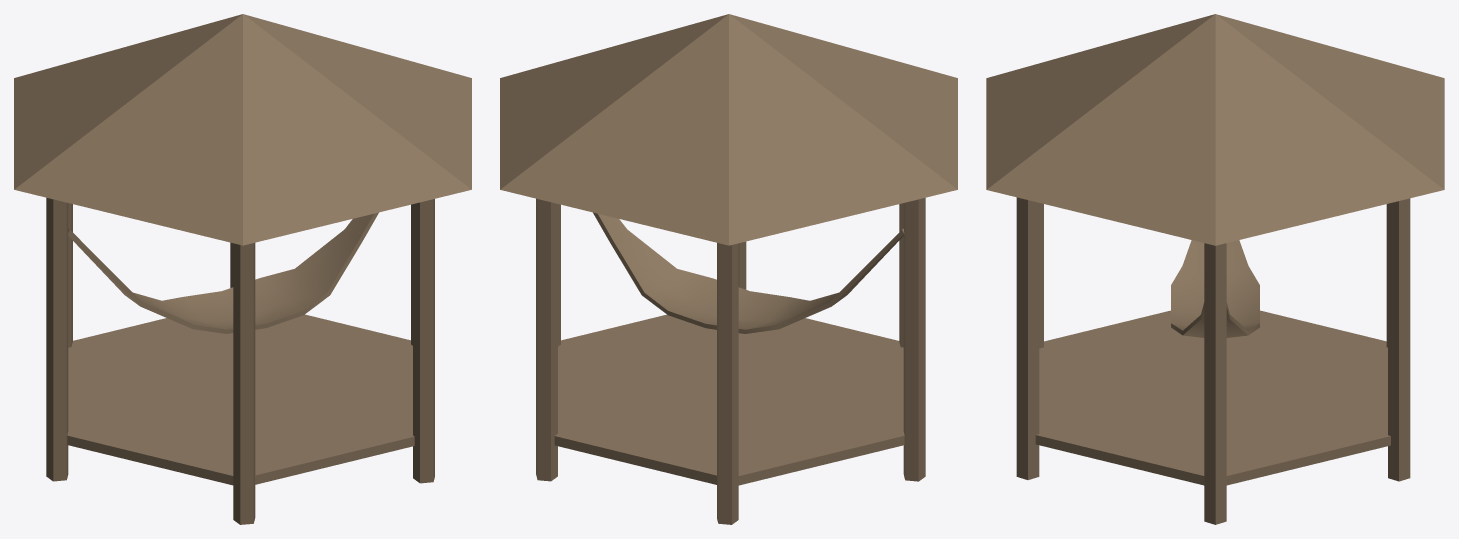
Rendered from SM_Hut-3_Round_01.fbx.
3 views of the same model, side by side, from view 1: azimuth 30°, elevation 25°; view 2: azimuth 150°, elevation 25°; view 3: azimuth 270°, elevation 25° (orthographic).
Visible parts, largest first — view 1: polySurface86; view 2: polySurface86; view 3: polySurface86.
Part boxes in pixels (x1,y1,x2,y2): polySurface86: (14, 14, 471, 524); polySurface86: (500, 14, 957, 524); polySurface86: (986, 14, 1444, 524).
Bounding box in the file's own units: 5.93 × 5.18 × 5.14.
